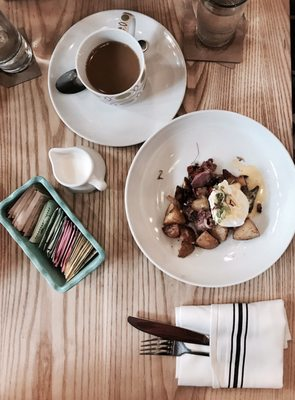pizza: (47, 10, 188, 148), (55, 27, 147, 105), (192, 0, 250, 50), (48, 146, 108, 193)
salad: (55, 68, 87, 94)
sushi: (124, 110, 295, 288)
